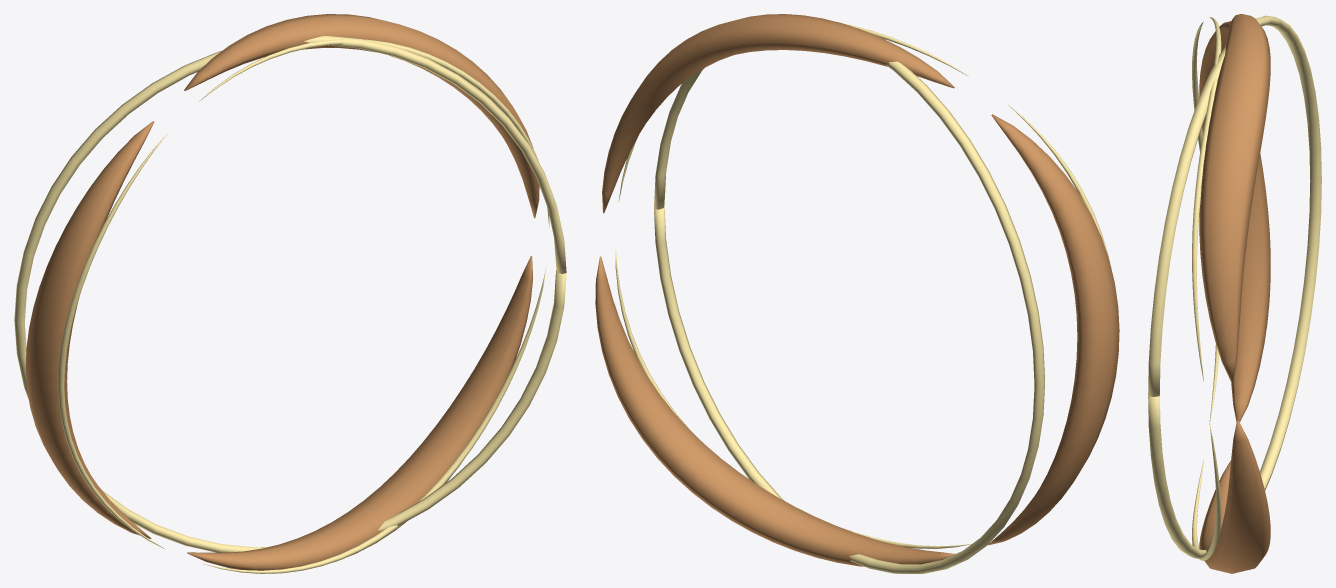
The model's file is capture-collar.glb.
3 renders of one model, left to right at view 1: azimuth 30°, elevation 25°; view 2: azimuth 150°, elevation 25°; view 3: azimuth 270°, elevation 25°, orthographic. The views are drawn at different scales.
Parts seen in each view (by area): view 1: capture-collar-0; view 2: capture-collar-0; view 3: capture-collar-0.
Boxes of the visible parts, x1=… form: capture-collar-0: x1=14, y1=14, x2=566, y2=573; capture-collar-0: x1=595, y1=14, x2=1119, y2=573; capture-collar-0: x1=1148, y1=14, x2=1321, y2=573.
Size of the model in its own units: 2.06 by 2.09 by 0.6433.
